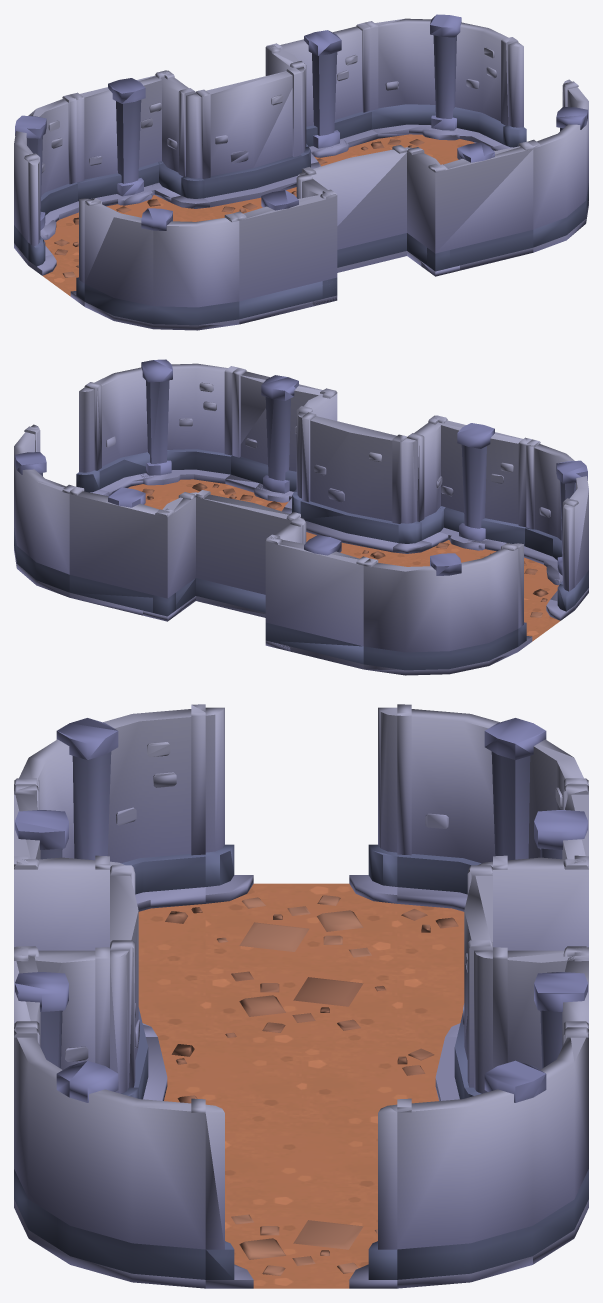
The model's file is room-wide-variation.fbx.
The picture shows the model from 3 angles, top to bottom: view 1: azimuth 30°, elevation 25°; view 2: azimuth 150°, elevation 25°; view 3: azimuth 270°, elevation 25°; orthographic projection. The views are drawn at different scales.
Parts seen in each view (by area): view 1: room-wide-variation; view 2: room-wide-variation; view 3: room-wide-variation.
Boxes of the visible parts, <box> form: room-wide-variation: <box>14,14,588,330</box>; room-wide-variation: <box>14,359,588,675</box>; room-wide-variation: <box>14,704,588,1288</box>.
Size of the model in its own units: 2000 by 423 by 1200.
